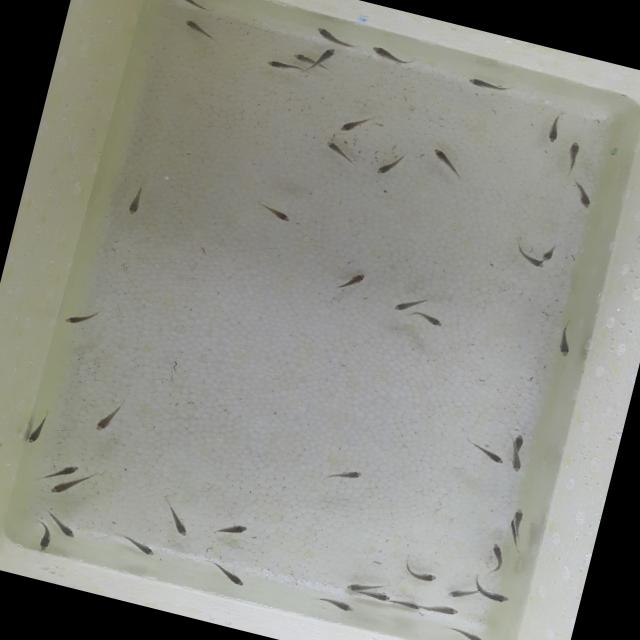fingerling: (201, 556, 252, 592), (360, 40, 416, 72), (252, 197, 300, 229), (155, 504, 195, 540), (312, 133, 358, 163), (459, 70, 512, 96), (22, 413, 58, 451), (426, 147, 466, 181), (320, 461, 368, 488), (368, 150, 408, 182), (310, 24, 354, 52), (48, 473, 89, 503), (213, 517, 257, 542), (92, 400, 123, 435), (45, 516, 83, 544), (60, 304, 96, 333), (473, 440, 509, 468), (552, 322, 580, 358), (178, 18, 220, 42), (338, 108, 373, 136), (512, 247, 548, 274), (400, 562, 440, 586), (470, 580, 510, 604), (124, 534, 160, 560), (571, 181, 599, 213), (316, 592, 356, 614), (484, 541, 510, 573), (561, 138, 584, 174), (441, 624, 491, 640), (124, 187, 148, 220), (541, 112, 564, 146), (340, 269, 370, 294), (434, 599, 466, 622), (34, 522, 56, 554), (391, 294, 422, 316), (540, 243, 567, 266), (56, 459, 84, 480), (264, 58, 300, 74), (414, 310, 444, 329), (292, 52, 326, 68), (344, 576, 374, 594), (507, 452, 529, 475), (510, 502, 530, 526), (314, 46, 338, 66), (169, 0, 206, 12), (510, 432, 530, 454), (444, 583, 468, 601), (398, 596, 422, 612), (370, 589, 392, 602)
